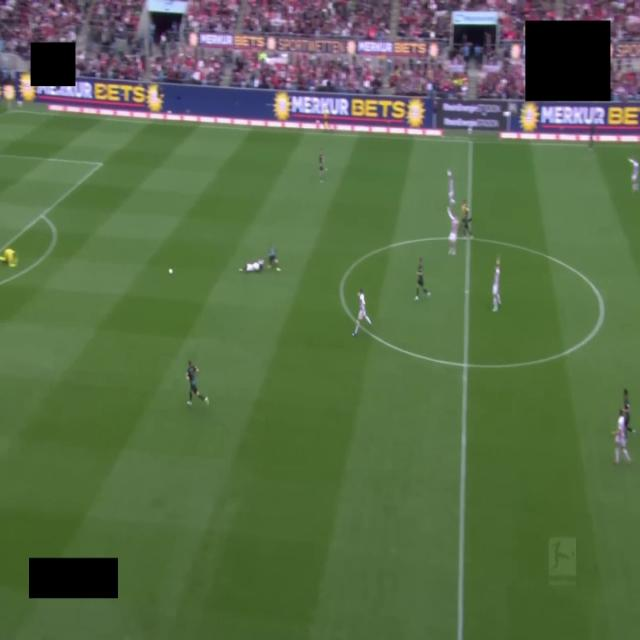ball: (169, 269, 172, 274)
player: (612, 409, 631, 464), (187, 360, 208, 406), (353, 289, 371, 336), (415, 258, 431, 300), (447, 208, 459, 255), (623, 389, 635, 433), (492, 257, 500, 311), (240, 258, 264, 272), (0, 248, 17, 267), (629, 159, 639, 191), (268, 246, 280, 271), (447, 170, 454, 205), (319, 149, 326, 182)
referee: (462, 200, 472, 238)
